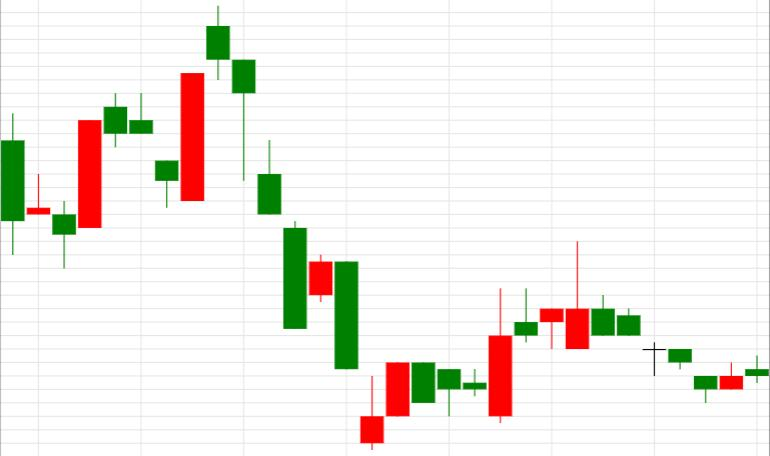inverse_hammer_rise: (232, 60, 384, 450)
